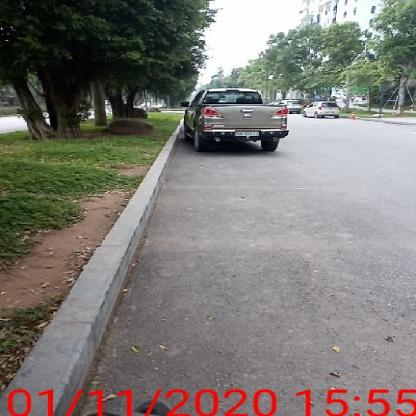biensoxe: (235, 130, 261, 138)
